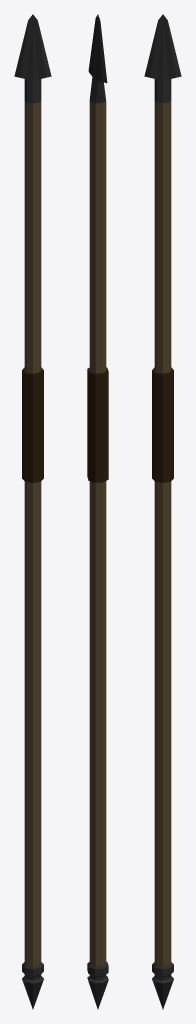
Rendered from Spear.fbx.
The picture shows the model from 3 angles, left to right: view 1: azimuth 90°, elevation 25°; view 2: azimuth 210°, elevation 25°; view 3: azimuth 270°, elevation 25°; orthographic projection.
Parts seen in each view (by area): view 1: Spear; view 2: Spear; view 3: Spear.
Part boxes in pixels (x1,y1,x2,y2): Spear: (14, 14, 51, 1009); Spear: (87, 14, 108, 1009); Spear: (144, 14, 181, 1009).
Size of the model in its own units: 4.64 by 229 by 7.75.
